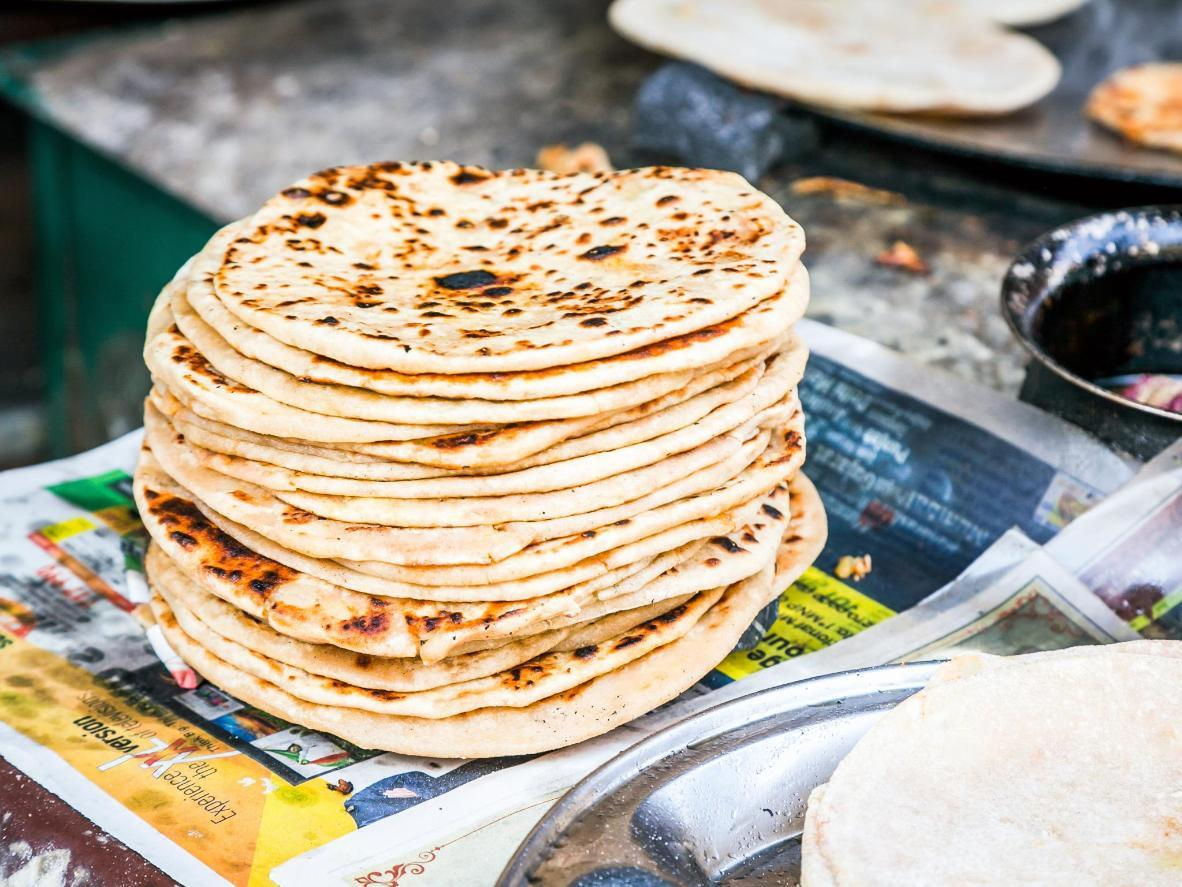chapati: (215, 162, 803, 374)
